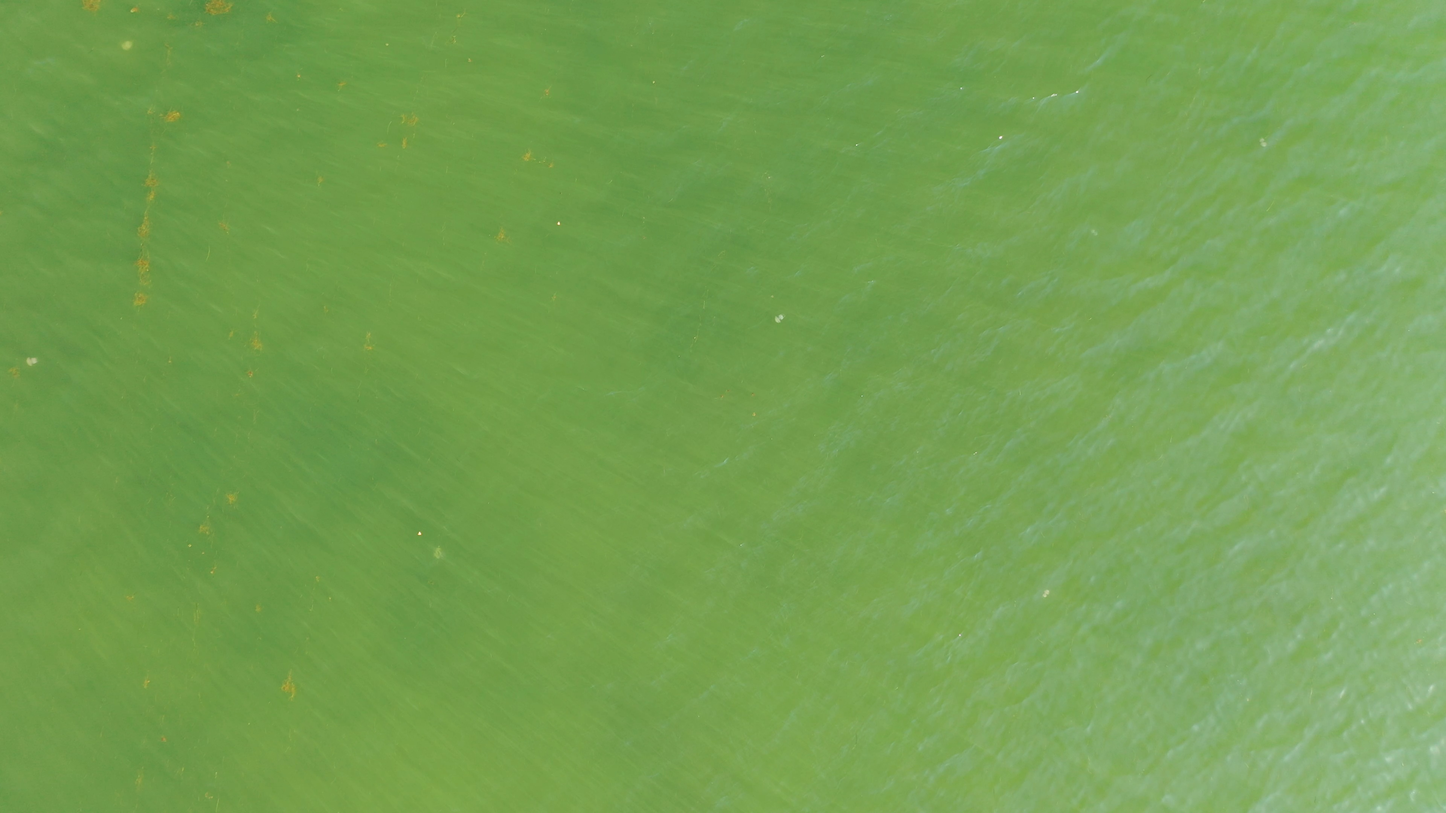meduse: (26, 357, 38, 365), (122, 41, 133, 49), (775, 314, 784, 323), (435, 549, 443, 556), (1042, 590, 1050, 597), (1260, 138, 1266, 146), (1092, 230, 1098, 237)
